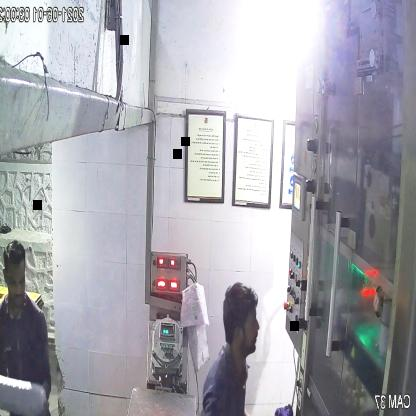no_goggles: (234, 310, 264, 336), (3, 269, 30, 293)
